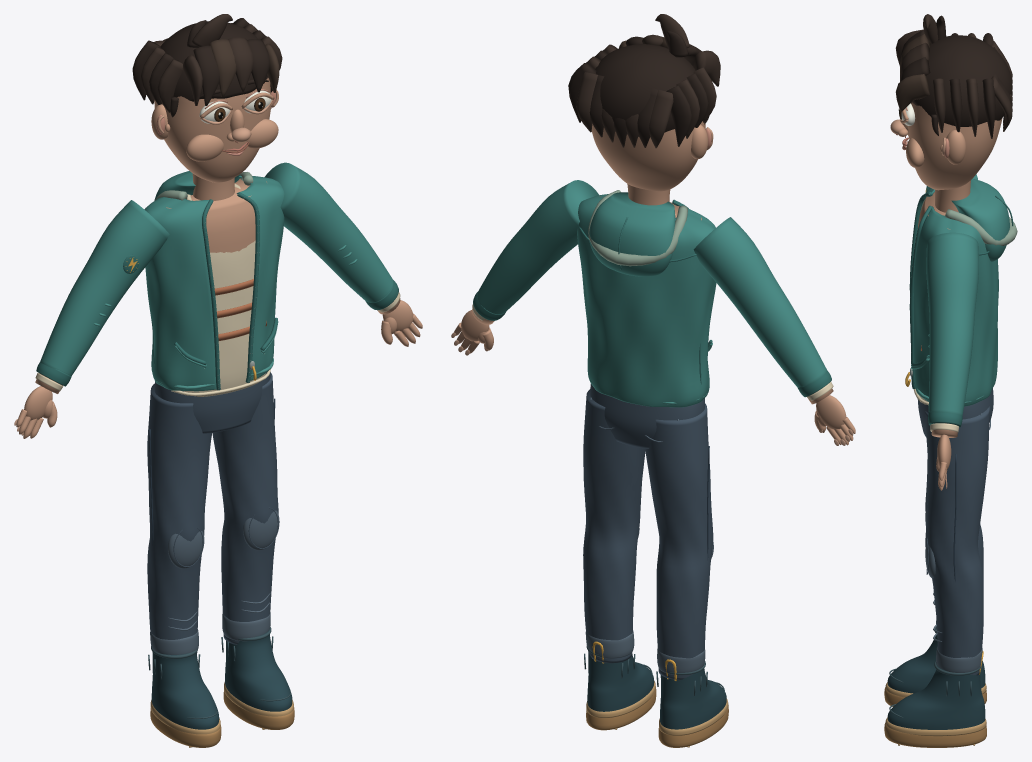
3 renders of one model, left to right at view 1: azimuth 30°, elevation 25°; view 2: azimuth 150°, elevation 25°; view 3: azimuth 270°, elevation 25°, orthographic.
Visible parts, largest first — view 1: Jacket | open rain shell, Trousers | R leg, Trousers | L leg, Jacket | R tailored sleeve, Jacket | L tailored sleeve, Face | continuous youthful head, Shirt | main body, R shoe | rounded upper, L shoe | rounded upper, Trousers | pelvis, Body | shirt-covered torso, Hair | dense fitted cap (+16 smaller); view 2: Jacket | open rain shell, Trousers | R leg, Trousers | L leg, Jacket | R tailored sleeve, Jacket | L tailored sleeve, Jacket | folded hood back, Hair | dense fitted cap, Face | continuous youthful head, R shoe | rounded upper, L shoe | rounded upper, Trousers | pelvis, Jacket | sage hood opening (+8 smaller); view 3: Trousers | L leg, Jacket | L tailored sleeve, Jacket | open rain shell, Hair | dense fitted cap, L shoe | rounded upper, Face | continuous youthful head, Jacket | folded hood back, R shoe | rounded upper, L shoe | gum outsole, Hair | fringe 6, Jacket | sage hood opening, Trousers | L rolled cuff (+23 smaller).
Boxes of the visible parts, x1,y1,x2,y2 form: Jacket | open rain shell: (144, 175, 284, 391); Trousers | R leg: (147, 384, 211, 654); Trousers | L leg: (212, 372, 278, 644); Jacket | R tailored sleeve: (40, 200, 169, 376); Jacket | L tailored sleeve: (264, 162, 393, 302); Face | continuous youthful head: (154, 78, 270, 182); Shirt | main body: (184, 240, 265, 396); R shoe | rounded upper: (151, 652, 219, 729); L shoe | rounded upper: (225, 629, 292, 711); Trousers | pelvis: (154, 372, 270, 433); Body | shirt-covered torso: (166, 179, 266, 252); Hair | dense fitted cap: (160, 21, 268, 101); Jacket | open rain shell: (577, 194, 716, 407); Trousers | R leg: (645, 403, 713, 680); Trousers | L leg: (583, 389, 645, 663); Jacket | R tailored sleeve: (693, 217, 827, 387); Jacket | L tailored sleeve: (477, 180, 598, 314); Jacket | folded hood back: (589, 192, 675, 276); Hair | dense fitted cap: (595, 44, 695, 136); Face | continuous youthful head: (591, 121, 705, 191); R shoe | rounded upper: (660, 668, 726, 729); L shoe | rounded upper: (587, 651, 654, 711); Trousers | pelvis: (590, 384, 704, 448); Jacket | sage hood opening: (588, 190, 687, 266); Trousers | L leg: (925, 406, 989, 675); Jacket | L tailored sleeve: (926, 232, 978, 414); Jacket | open rain shell: (913, 187, 998, 406); Hair | dense fitted cap: (912, 35, 1012, 126); L shoe | rounded upper: (887, 662, 985, 729); Face | continuous youthful head: (908, 102, 1002, 190); Jacket | folded hood back: (951, 178, 1009, 261); R shoe | rounded upper: (887, 628, 985, 693); L shoe | gum outsole: (884, 722, 986, 747); Hair | fringe 6: (895, 74, 929, 111); Jacket | sage hood opening: (945, 209, 1017, 245); Trousers | L rolled cuff: (936, 646, 982, 672).
Bounding box in the file's own units: 0.865 × 1.45 × 0.2483.
